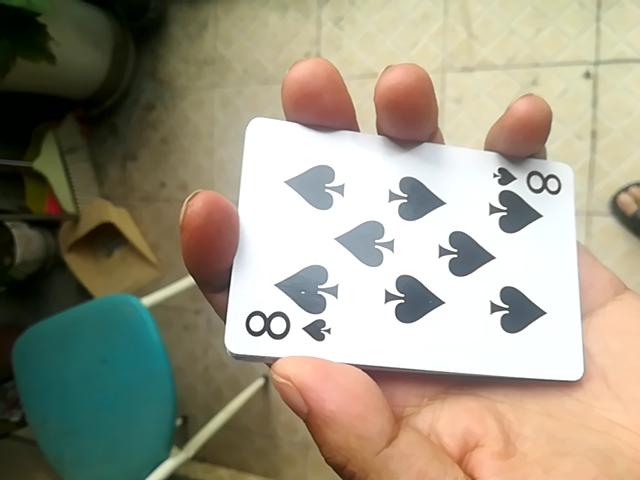ht 8: (222, 125, 586, 387)
